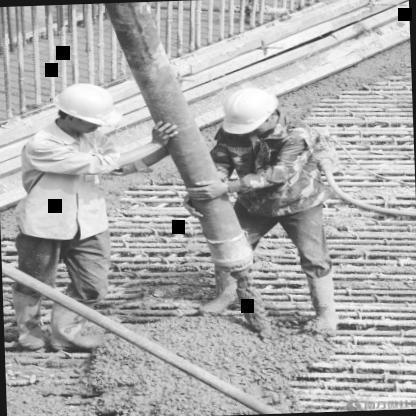helmet: (47, 77, 125, 141), (216, 85, 286, 143)
